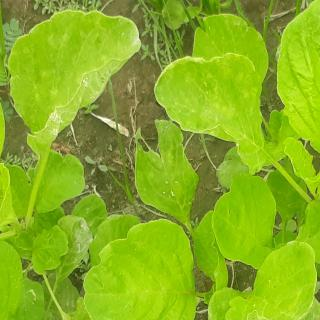karat_putih: (198, 72, 252, 117), (74, 76, 100, 111), (74, 219, 93, 255), (48, 108, 66, 144)
